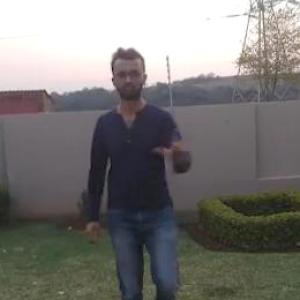land_hand: (142, 116, 186, 162)
